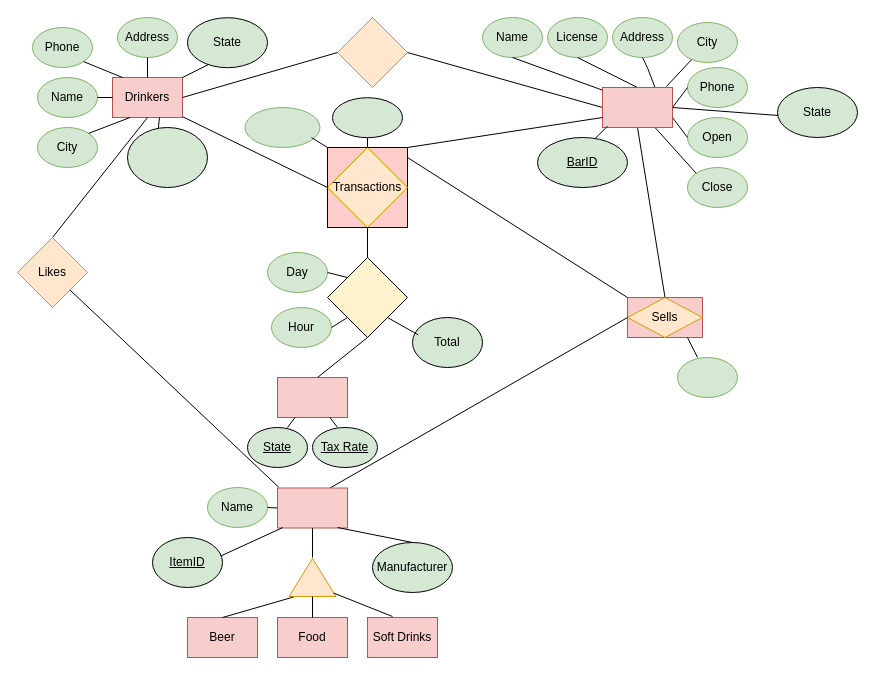
This 875x675 diagram has some shape labels left out. The shapes that lost their labels are listed below. From the top down, each one's centre as x and y in pixels, then its label:
At point 372,52: "Frequents".
At point 282,127: "Transaction Id".
At point 367,117: "Bill ID".
At point 637,107: "Bars".
At point 167,157: "DrinkerID".
At point 367,297: "Bill".
At point 312,397: "Tax".
At point 707,377: "Price".
At point 312,507: "Items".
At point 312,577: "ISA".
